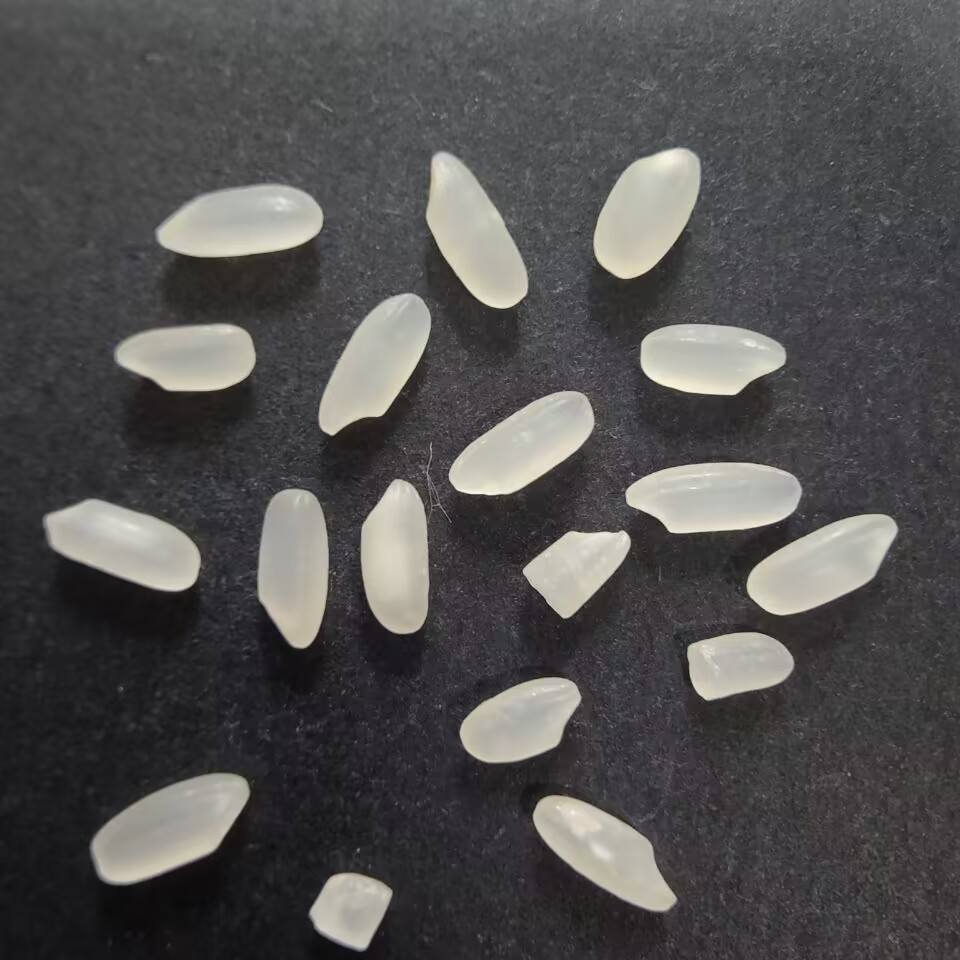broken: (519, 521, 633, 624), (682, 627, 800, 706), (305, 865, 395, 955)
rice: (88, 768, 253, 895), (312, 287, 435, 440), (528, 792, 676, 918), (421, 147, 530, 313), (741, 510, 904, 620), (33, 493, 205, 597), (447, 388, 598, 502), (588, 141, 704, 285), (149, 179, 327, 261), (620, 458, 803, 537), (250, 486, 335, 654), (353, 473, 437, 637), (632, 319, 791, 401), (453, 675, 587, 768), (109, 319, 259, 393)
